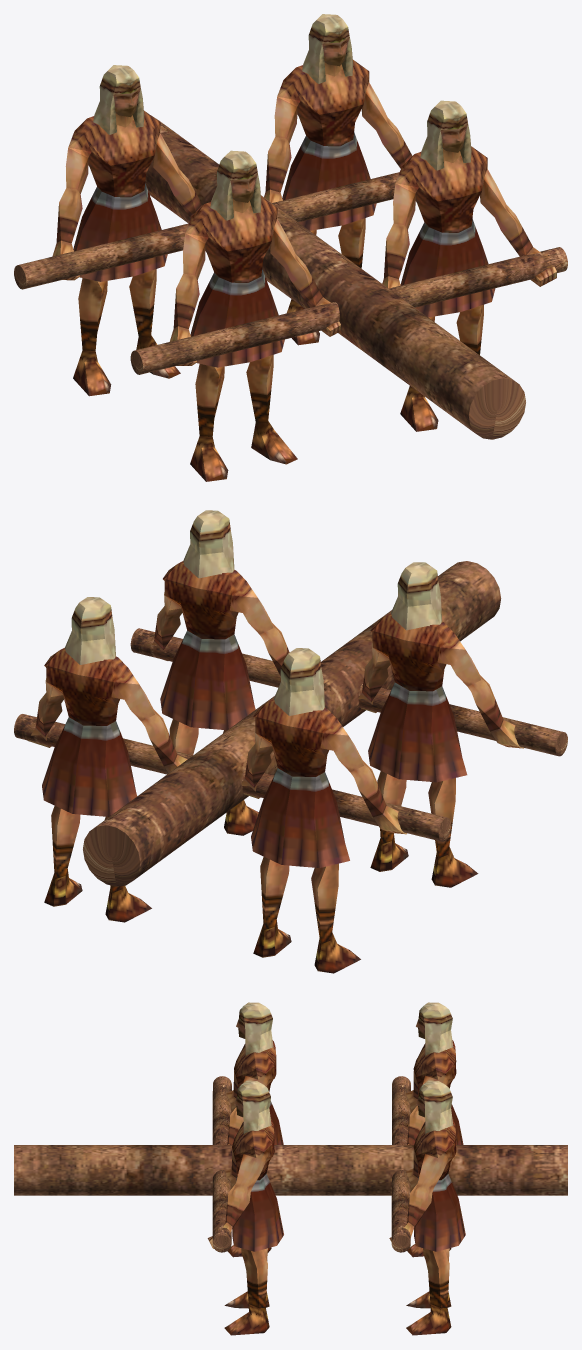
Rendered from ram.glb.
3 views of the same model, one above another, from view 1: azimuth 30°, elevation 25°; view 2: azimuth 150°, elevation 25°; view 3: azimuth 270°, elevation 25° (orthographic). The views are drawn at different scales.
Visible parts, largest first — view 1: Editable 0, Log, Editable P, Editable 2, Editable 1, stick, stick01; view 2: Editable P, Editable 0, Editable 1, Log, Editable 2, stick, stick01; view 3: Log, Editable 1, Editable 2, Editable P, Editable 0, stick01, stick.
Boxes of the visible parts, <box> form: Editable 0: <box>169,150,340,481</box>; Log: <box>145,115,525,439</box>; Editable P: <box>52,65,202,396</box>; Editable 2: <box>382,100,556,431</box>; Editable 1: <box>264,14,412,345</box>; stick: <box>130,247,567,374</box>; stick01: <box>14,172,399,289</box>; Editable P: <box>241,648,406,973</box>; Editable 0: <box>358,562,523,887</box>; Editable 1: <box>27,597,187,922</box>; Log: <box>83,561,501,886</box>; Editable 2: <box>151,510,289,835</box>; stick: <box>130,628,567,756</box>; stick01: <box>14,714,451,841</box>; Log: <box>14,1145,567,1195</box>; Editable 1: <box>389,1080,465,1335</box>; Editable 2: <box>207,1080,283,1335</box>; Editable P: <box>406,1002,463,1257</box>; Editable 0: <box>226,1002,283,1257</box>; stick01: <box>391,1076,410,1252</box>; stick: <box>212,1076,231,1252</box>.
Size of the model in its own units: 0.6469 by 0.4471 by 0.9517.
Materials: 7 (7 with a texture image).
